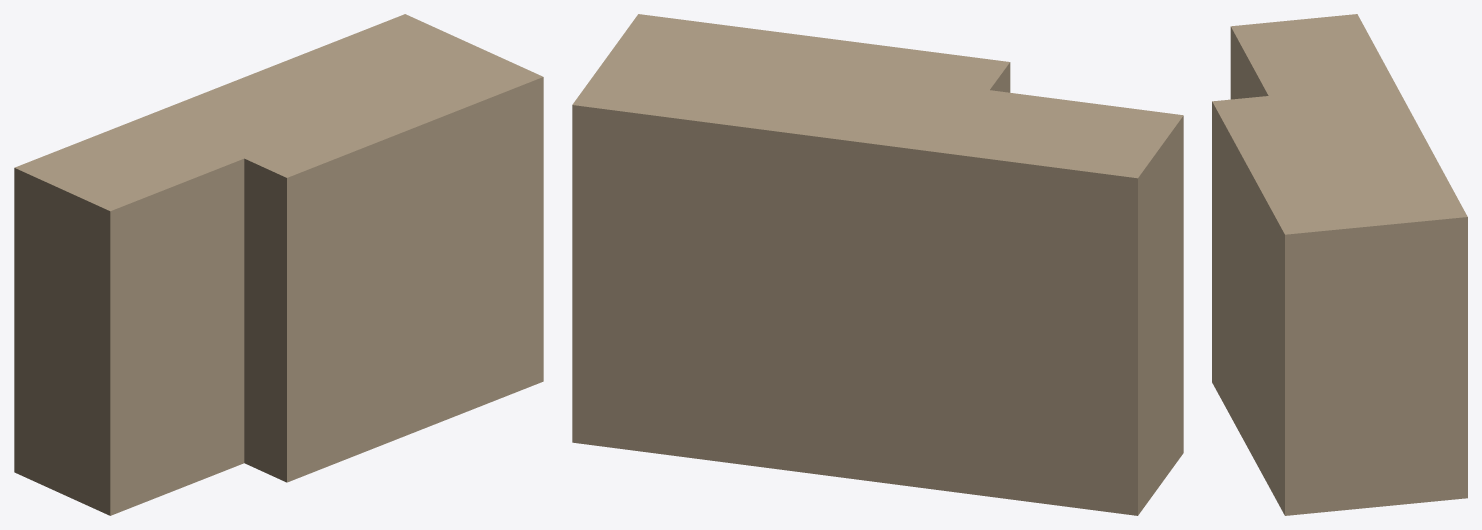
Rendered from bld_106455938.dae.
3 renders of one model, left to right at view 1: azimuth 30°, elevation 25°; view 2: azimuth 150°, elevation 25°; view 3: azimuth 270°, elevation 25°, orthographic. The views are drawn at different scales.
Visible parts, largest first — view 1: bld_106455938; view 2: bld_106455938; view 3: bld_106455938.
Boxes of the visible parts, x1,y1,x2,y2 form: bld_106455938: [14, 14, 543, 515]; bld_106455938: [572, 14, 1183, 515]; bld_106455938: [1212, 14, 1467, 515].
Size of the model in its own units: 13.46 by 6.59 by 8.
